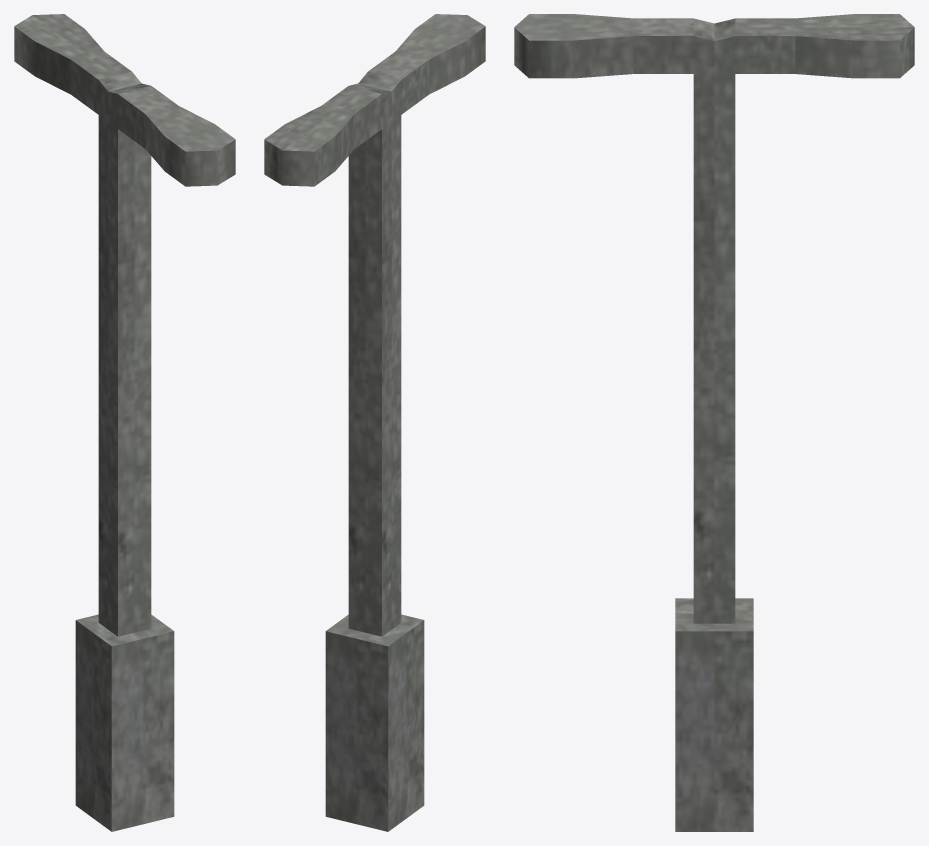
Rendered from detailLight_double.fbx.
3 views of the same model, side by side, from view 1: azimuth 30°, elevation 25°; view 2: azimuth 150°, elevation 25°; view 3: azimuth 270°, elevation 25° (orthographic). The views are drawn at different scales.
Visible parts, largest first — view 1: detailLight_double; view 2: detailLight_double; view 3: detailLight_double.
Boxes of the visible parts, bbox=[...] form: detailLight_double: bbox=[14, 14, 235, 831]; detailLight_double: bbox=[264, 14, 485, 831]; detailLight_double: bbox=[514, 14, 914, 831].
Size of the model in its own units: 0.862 by 9.6 by 4.42.
